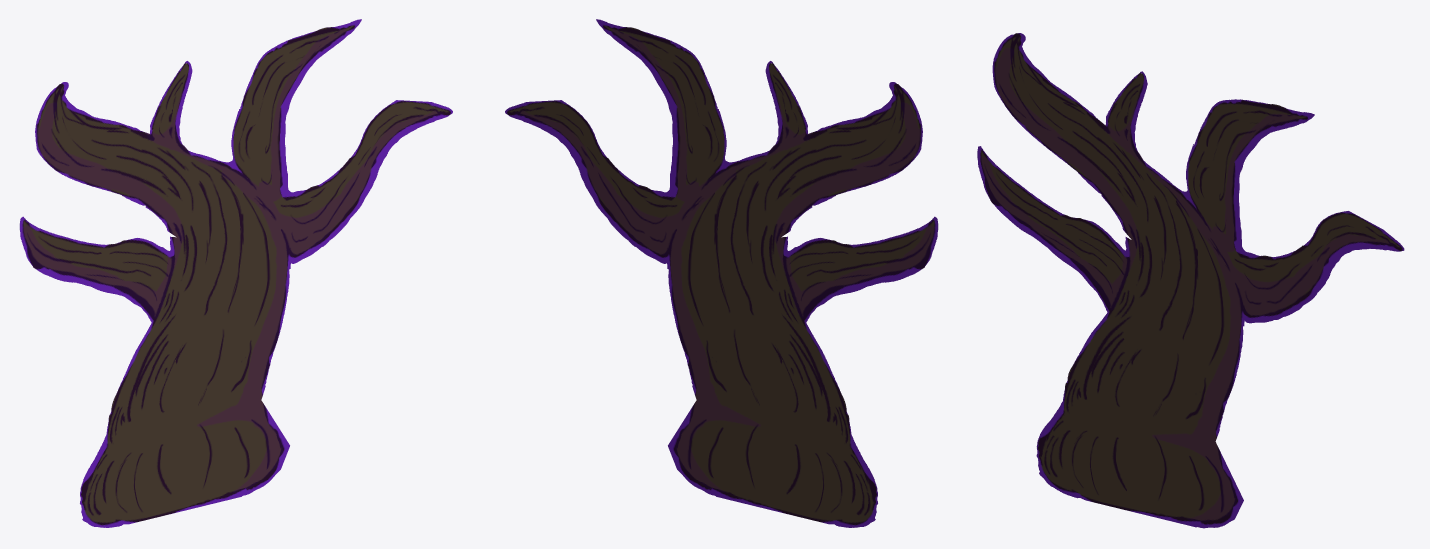
The model's file is tree_mesh.fbx.
The picture shows the model from 3 angles, left to right: view 1: azimuth 30°, elevation 25°; view 2: azimuth 150°, elevation 25°; view 3: azimuth 330°, elevation 25°; orthographic projection.
Visible parts, largest first — view 1: tree; view 2: tree; view 3: tree.
Boxes of the visible parts, left/top/right/bottom form: tree: left=19, top=19, right=452, bottom=527; tree: left=505, top=19, right=938, bottom=527; tree: left=977, top=33, right=1404, bottom=528.
Size of the model in its own units: 256 by 257 by 1.58e-14.
